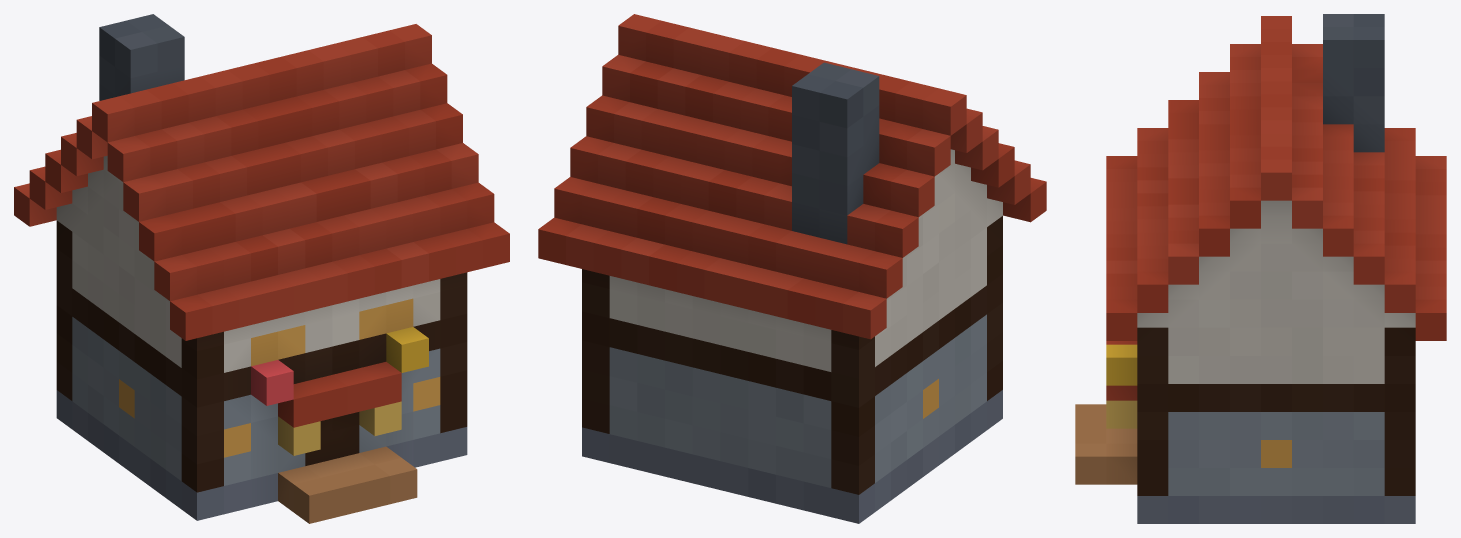
File: prop_manor.glb
The picture shows the model from 3 angles, left to right: view 1: azimuth 30°, elevation 25°; view 2: azimuth 150°, elevation 25°; view 3: azimuth 270°, elevation 25°; orthographic projection. The views are drawn at different scales.
Visible parts, largest first — view 1: VoxelDiorama; view 2: VoxelDiorama; view 3: VoxelDiorama.
Part boxes in pixels (x1,y1,x2,y2): VoxelDiorama: (14, 14, 509, 523); VoxelDiorama: (538, 14, 1046, 523); VoxelDiorama: (1075, 14, 1446, 523).
Bounding box in the file's own units: 6 × 7 × 6.
